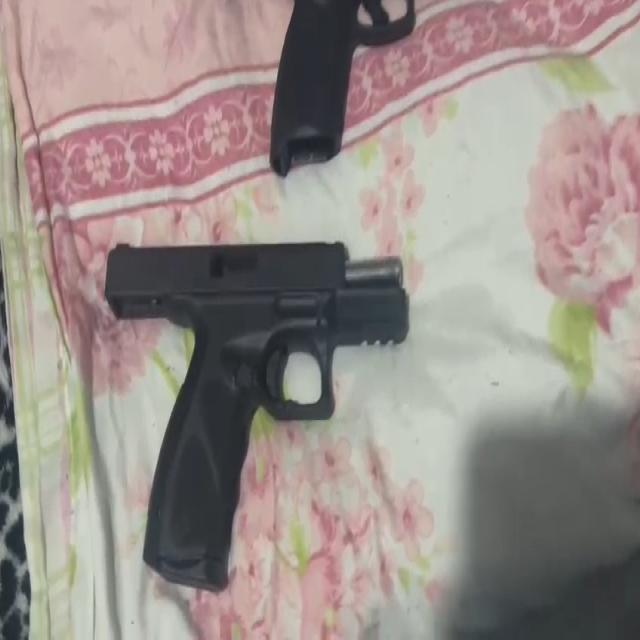gun: (101, 239, 412, 598)
